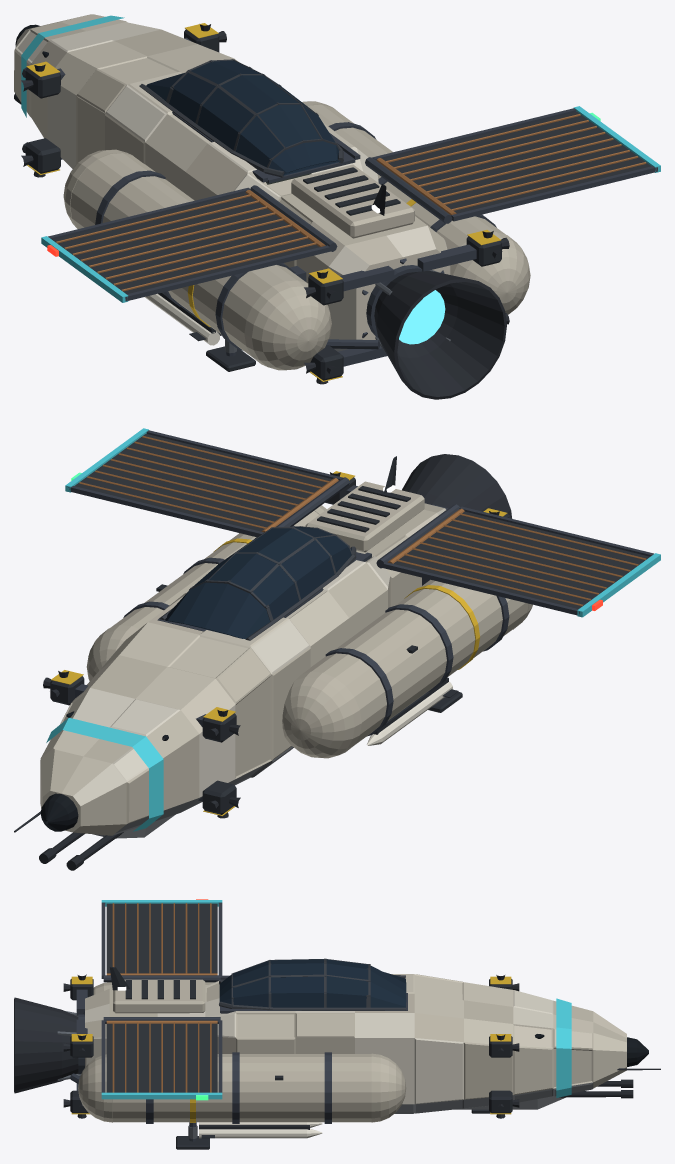
File: fighter.glb
The picture shows the model from 3 angles, top to bottom: view 1: azimuth 30°, elevation 25°; view 2: azimuth 150°, elevation 25°; view 3: azimuth 270°, elevation 25°; orthographic projection. The views are drawn at different scales.
Parts seen in each view (by area): view 1: body, wing_l, wing_r, canopy, gear; view 2: body, wing_l, wing_r, canopy; view 3: body, wing_r, wing_l, canopy, gear.
Part boxes in pixels (<box>): body: <box>14,14,530,399</box>; wing_l: <box>41,187,329,302</box>; wing_r: <box>372,106,660,221</box>; canopy: <box>139,59,343,177</box>; gear: <box>206,339,255,371</box>; body: <box>14,454,532,870</box>; wing_l: <box>383,506,660,617</box>; wing_r: <box>65,428,342,536</box>; canopy: <box>159,526,356,640</box>; body: <box>14,967,660,1138</box>; wing_r: <box>101,1020,222,1100</box>; wing_l: <box>101,899,222,978</box>; canopy: <box>219,958,406,1010</box>; gear: <box>176,1109,490,1149</box>.
Bounding box in the file's own units: 7.57 × 2.62 × 10.51.
